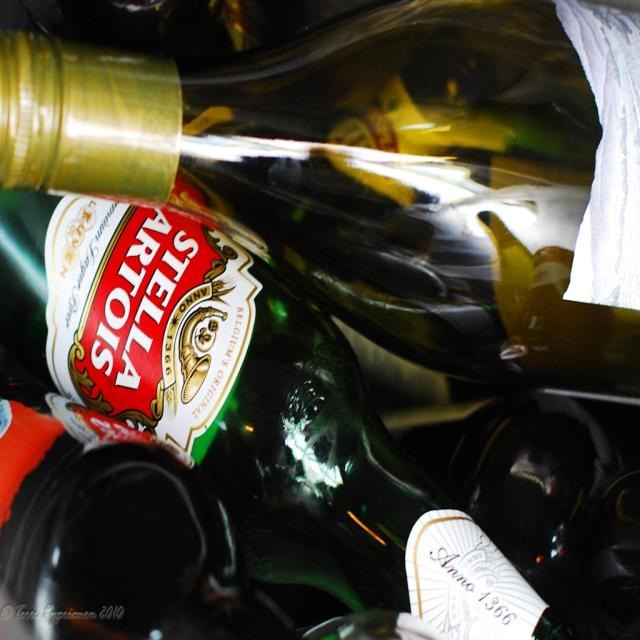stellaartois: (64, 204, 262, 449)
